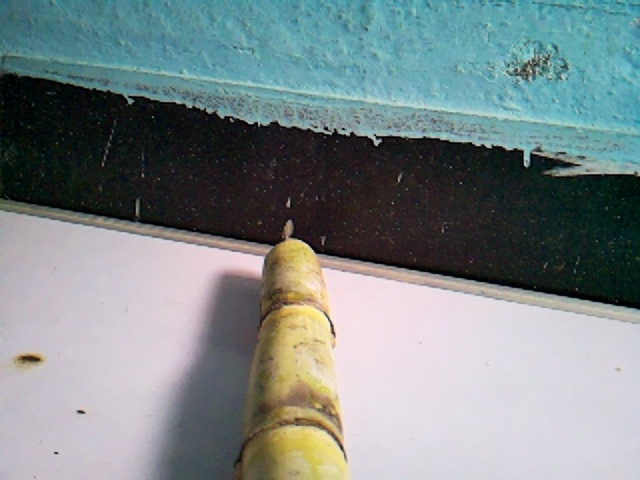Good Sugarcane: (229, 236, 351, 478)
Node: (229, 405, 352, 466), (254, 282, 339, 349)
